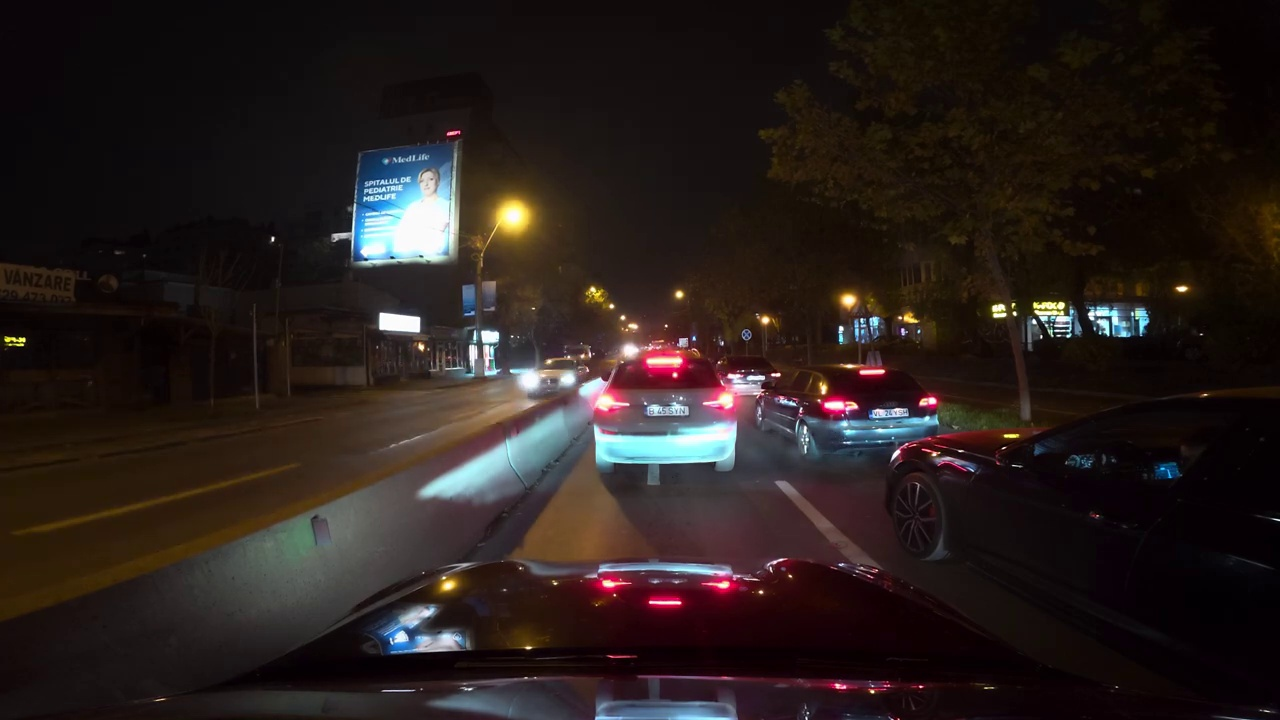acesa: (494, 199, 532, 237), (583, 284, 609, 307), (836, 290, 860, 313), (670, 284, 690, 305)
